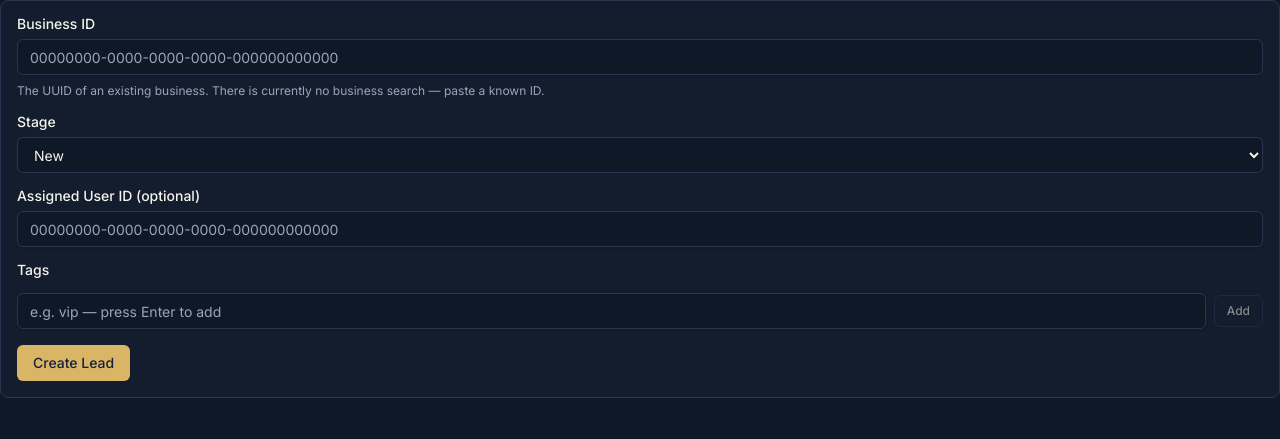
Test: CreateLeadForm › blocks submission and shows a validation error for an empty Business ID
Click the button "Create Lead": (74, 363) [17, 345, 130, 381]
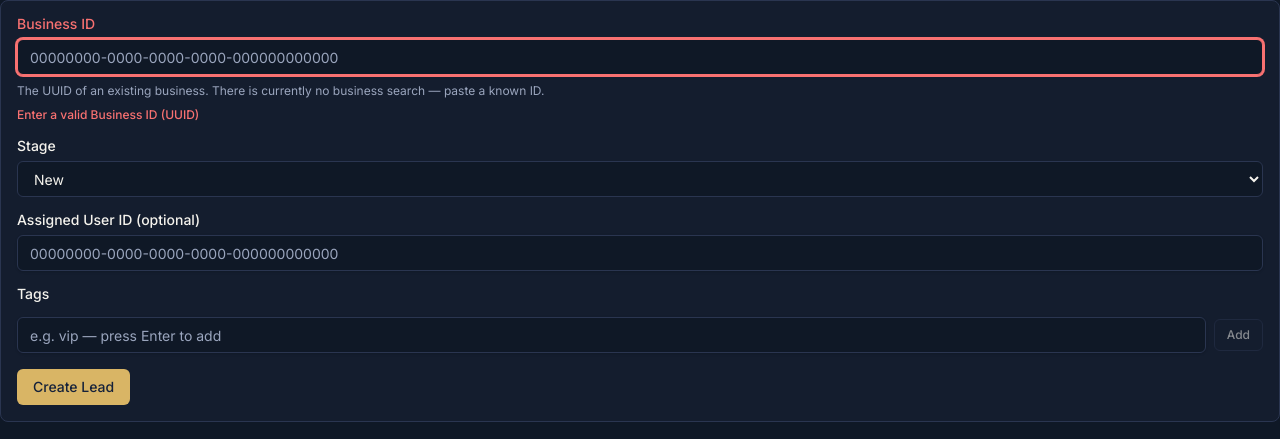
Expected: the text "Enter a valid Business ID (UUID)" is shown, [17, 107, 199, 122]
